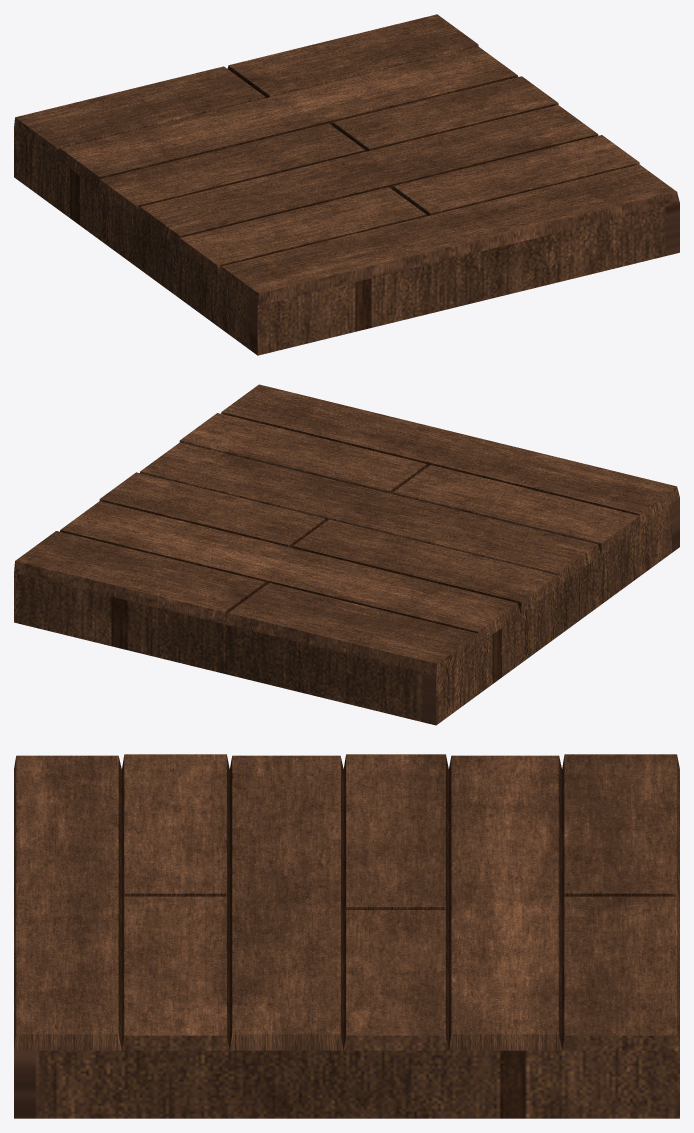
Rendered from floor.fbx.
3 views of the same model, one above another, from view 1: azimuth 30°, elevation 25°; view 2: azimuth 150°, elevation 25°; view 3: azimuth 270°, elevation 25° (orthographic). The views are drawn at different scales.
Visible parts, largest first — view 1: floor; view 2: floor; view 3: floor.
Part boxes in pixels (x1,y1,x2,y2): floor: (14,14,679,355); floor: (14,384,679,725); floor: (14,754,679,1118).
Size of the model in its own units: 200 by 27.5 by 200.
